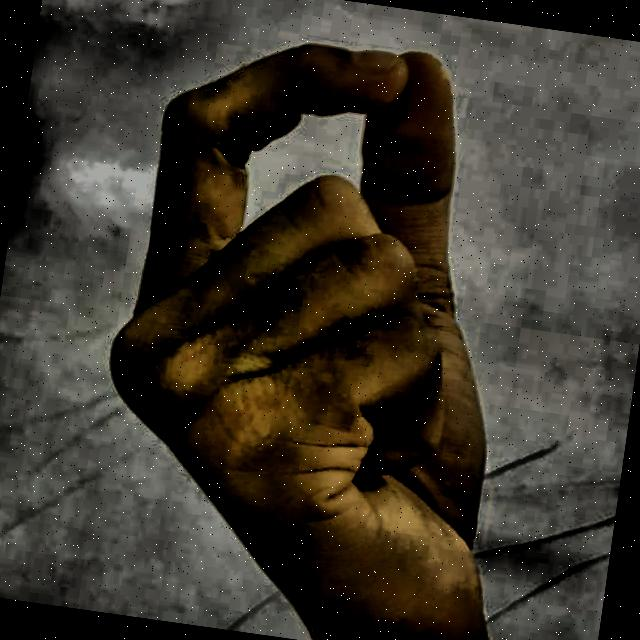Gha: (18, 0, 612, 640)
